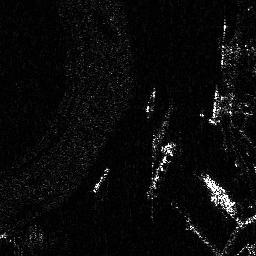ship: (145, 141, 179, 199), (199, 171, 237, 215), (92, 167, 110, 194), (209, 87, 220, 126), (145, 88, 156, 117)
